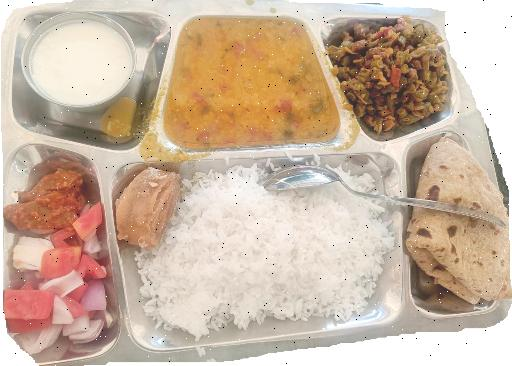Curd: (18, 8, 135, 111)
Dal: (170, 18, 320, 140)
Pickle: (2, 154, 79, 228)
Rice: (124, 164, 396, 328)
Roti: (409, 137, 512, 302)
Salad: (6, 234, 104, 344)
Sweet: (114, 170, 186, 246)
Vegetable: (338, 15, 450, 126)
